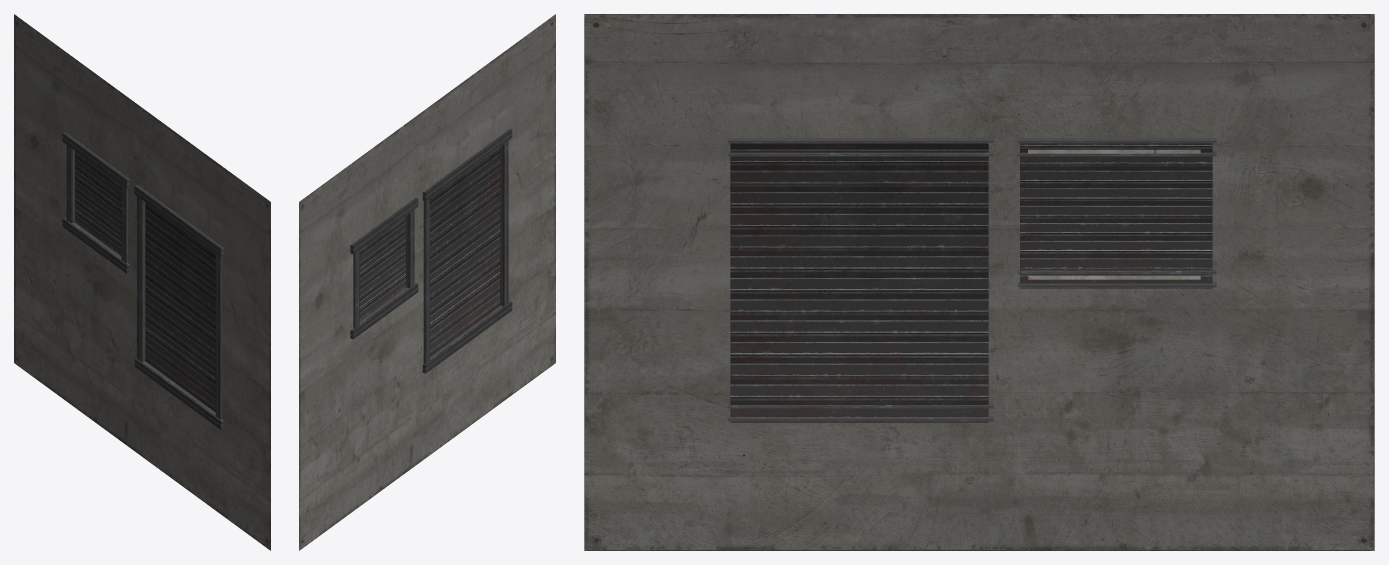
Rendered from CP_Windows_B_4x3m_12.fbx.
3 views of the same model, side by side, from view 1: azimuth 30°, elevation 25°; view 2: azimuth 150°, elevation 25°; view 3: azimuth 270°, elevation 25° (orthographic). The views are drawn at different scales.
Parts seen in each view (by area): view 1: CP_Windows_B_4x3m_12; view 2: CP_Windows_B_4x3m_12; view 3: CP_Windows_B_4x3m_12.
Part boxes in pixels (x1,y1,x2,y2): CP_Windows_B_4x3m_12: (14,14,270,550); CP_Windows_B_4x3m_12: (299,14,555,550); CP_Windows_B_4x3m_12: (584,14,1374,550).
Size of the model in its own units: 9.54 by 300 by 400.
